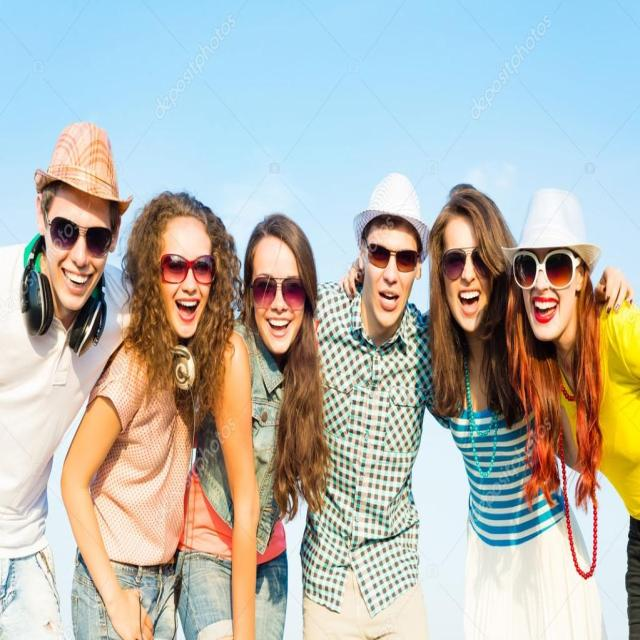hat: (32, 118, 133, 315), (505, 191, 600, 346), (353, 170, 430, 333)
head: (144, 198, 219, 343), (240, 219, 316, 358), (430, 195, 502, 333)
